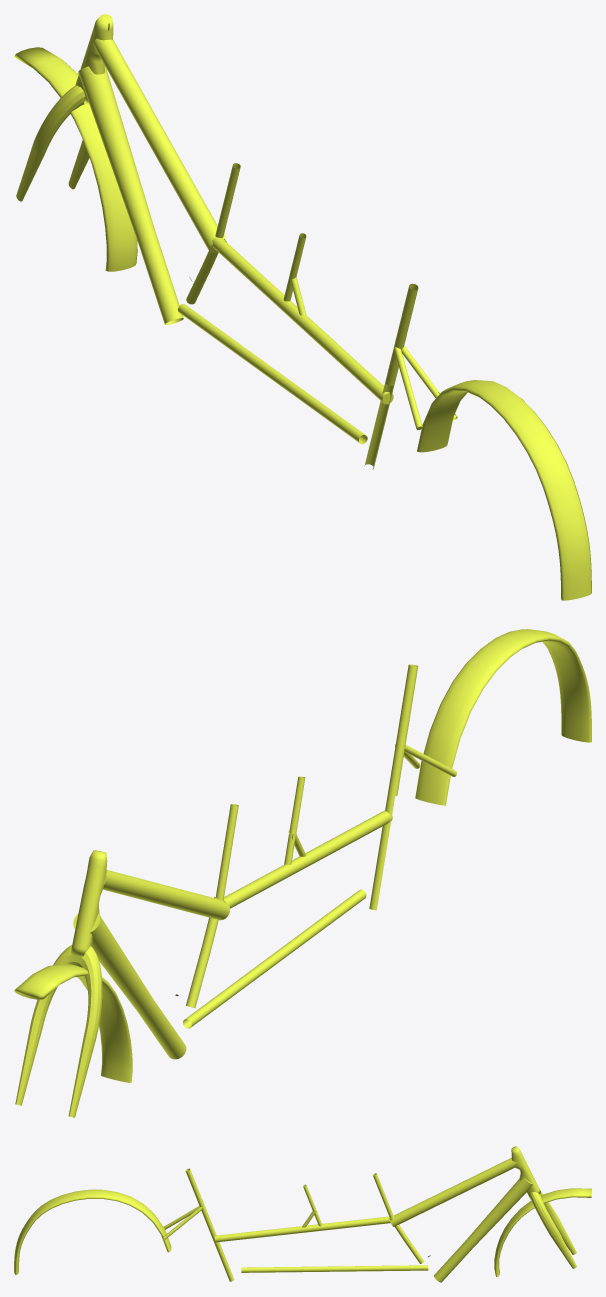
The model's file is seperated bike body.fbx.
3 views of the same model, one above another, from view 1: azimuth 30°, elevation 25°; view 2: azimuth 150°, elevation 25°; view 3: azimuth 270°, elevation 25° (orthographic). The views are drawn at different scales.
Visible parts, largest first — view 1: real real bike body, real real front bike body; view 2: real real bike body, real real front bike body; view 3: real real bike body, real real front bike body.
Part boxes in pixels (bbox=[...]): real real bike body: bbox=[78, 38, 591, 600]; real real front bike body: bbox=[14, 14, 137, 271]; real real bike body: bbox=[73, 629, 591, 1059]; real real front bike body: bbox=[14, 850, 132, 1117]; real real bike body: bbox=[14, 1158, 533, 1282]; real real front bike body: bbox=[494, 1146, 591, 1276].
Bounding box in the file's own units: 81.7 × 324 × 1250.
